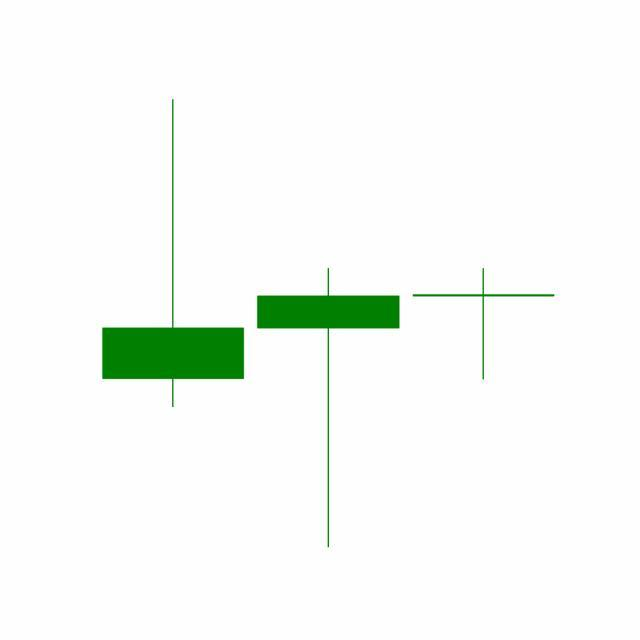Dragonfly Doji: (250, 265, 407, 551)
